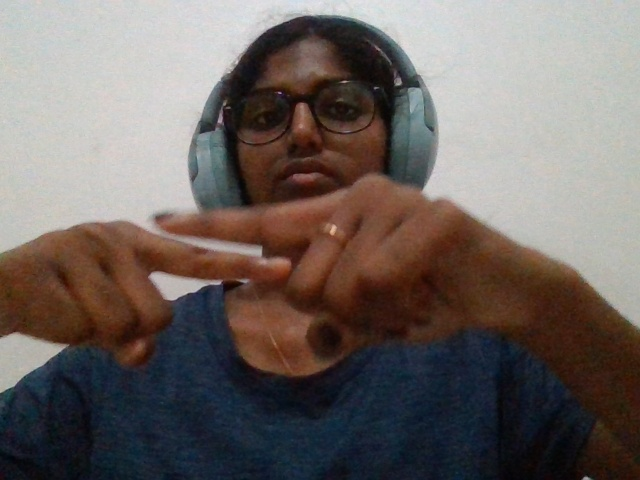Sign: (5, 104, 594, 468)
